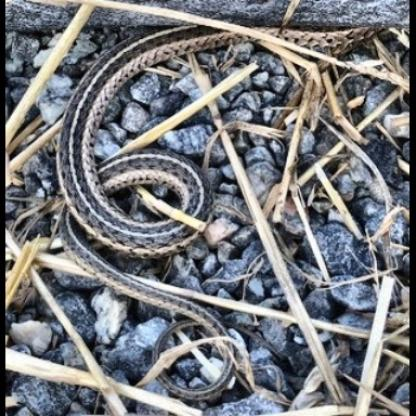Snake: (40, 15, 248, 400)
